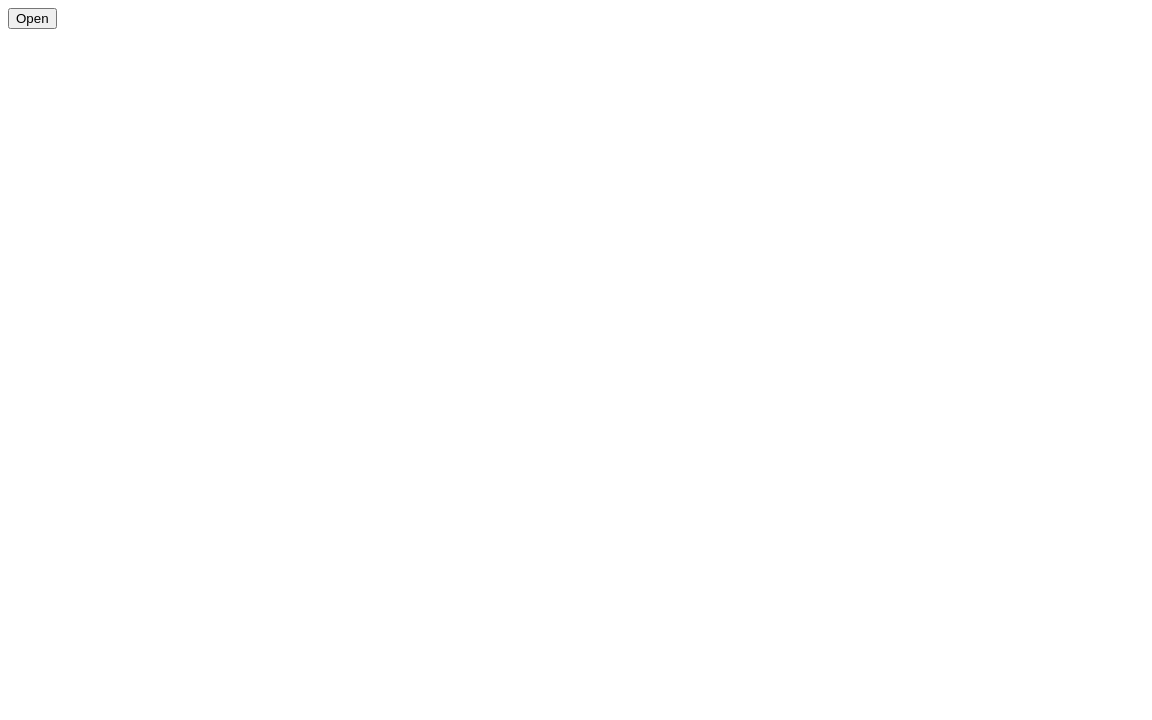
closes on Escape and via close button
Click the button "Open" at coordinates (32, 18), box [8,8,57,29]
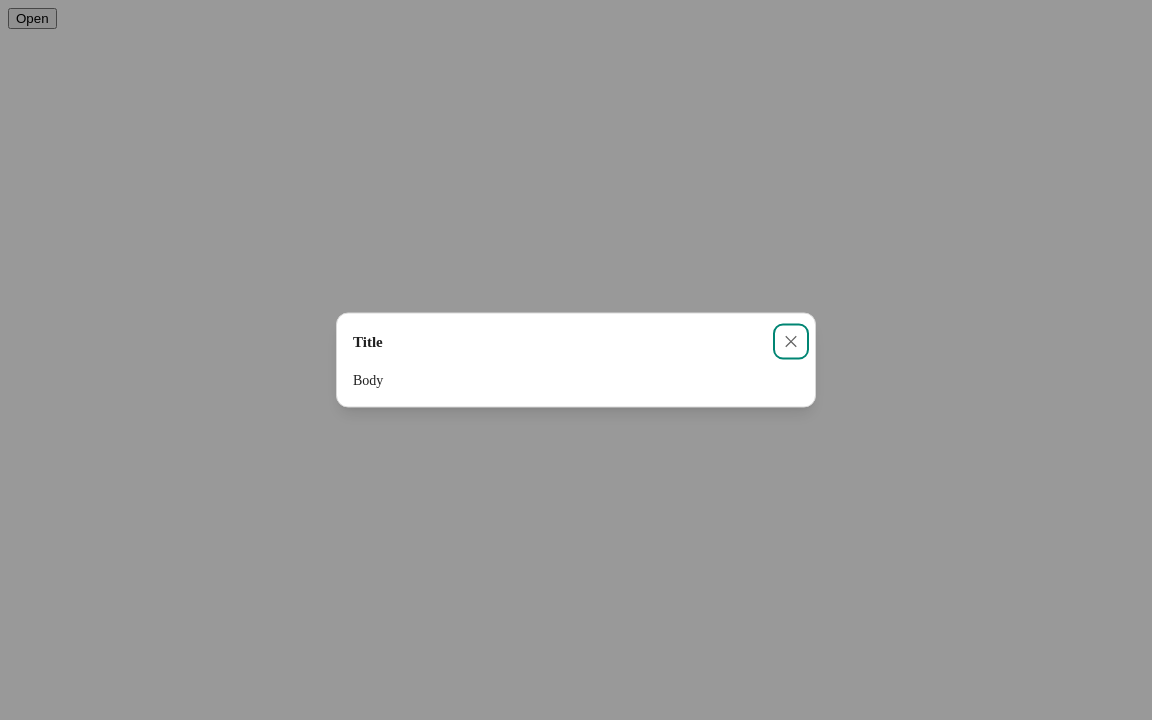
Press Escape
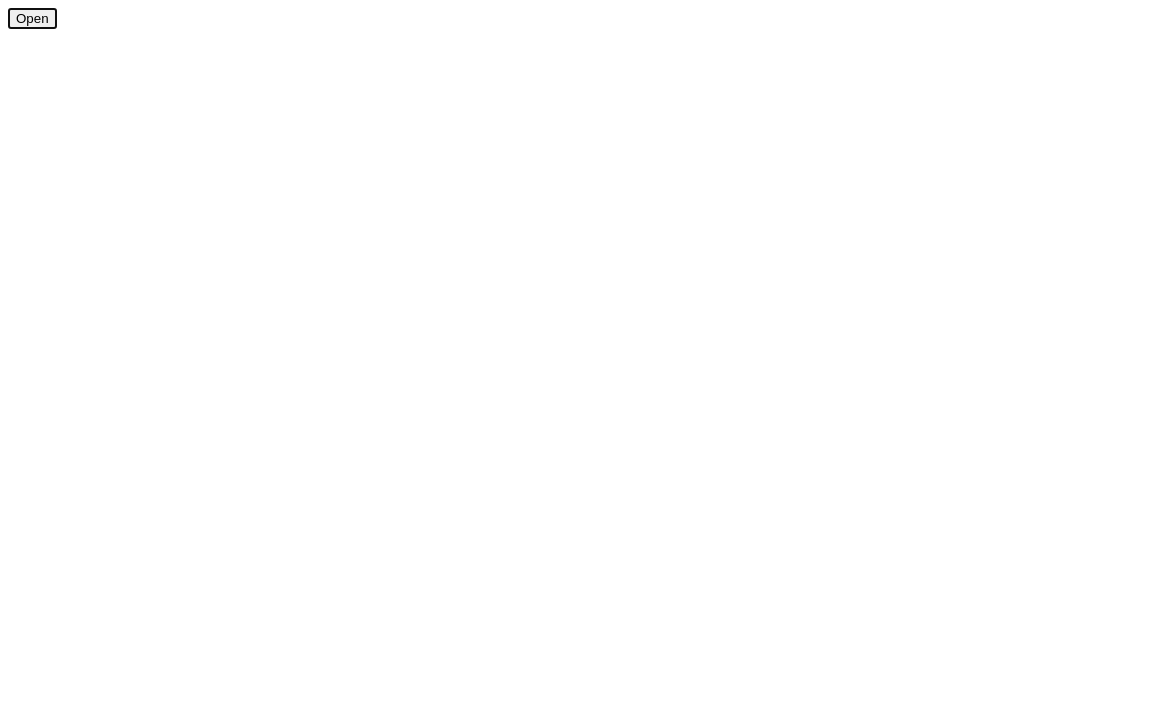
Now the dialog is gone
Click the button "Open" at coordinates (32, 18), box [8,8,57,29]
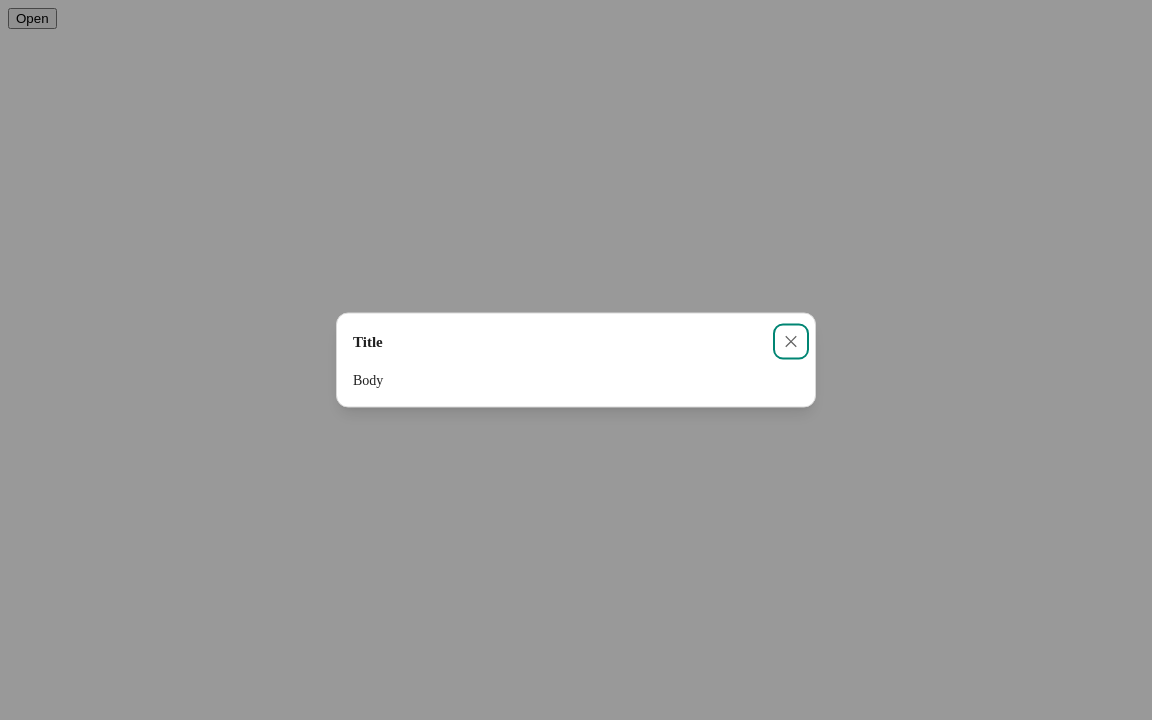
Click the button named "Close" at coordinates (791, 342), box [775,326,807,358]
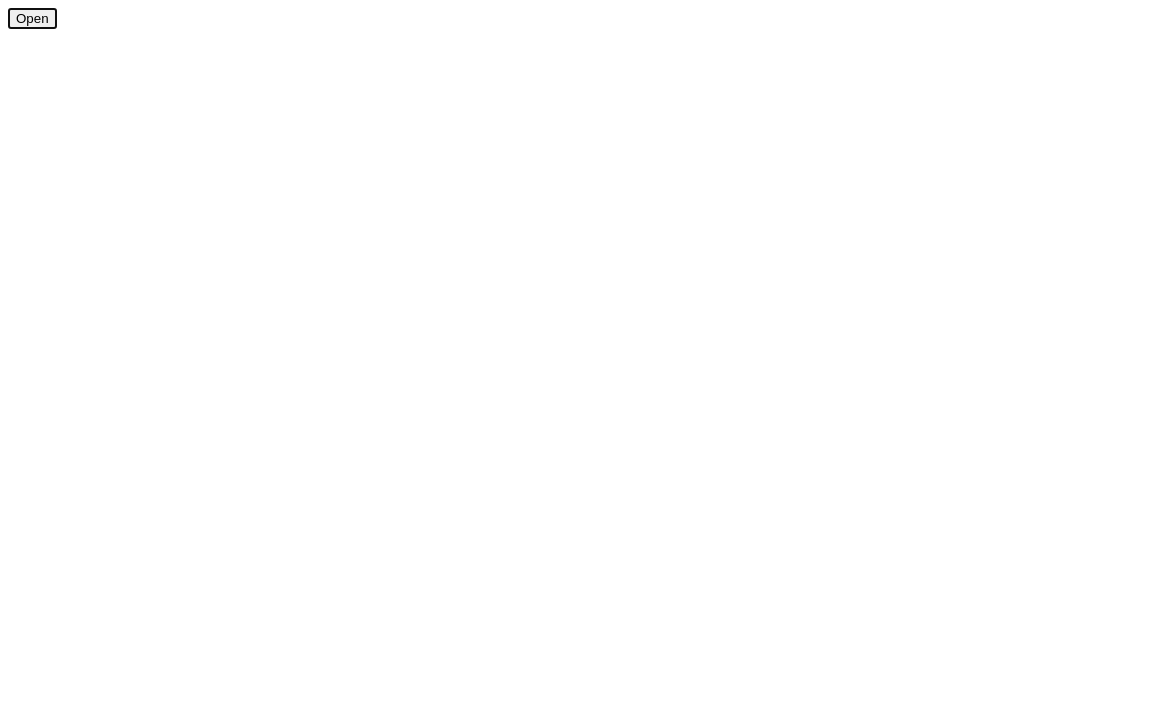
Now the dialog is gone
